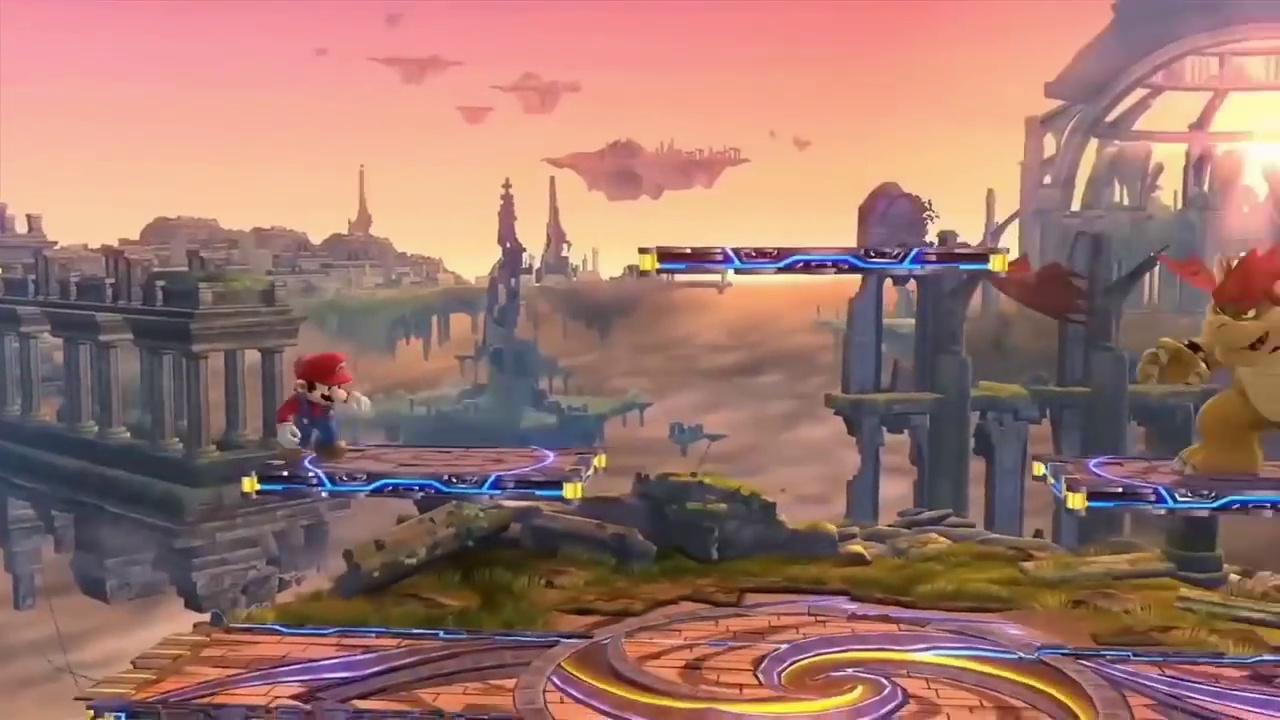Mario: (277, 353, 371, 462)
